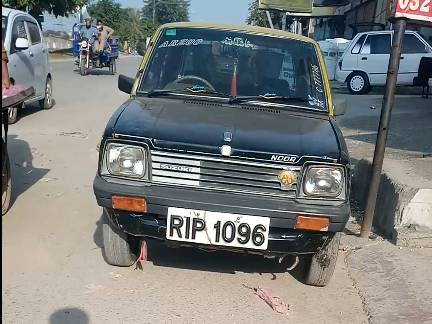number_plate: (166, 206, 273, 255)
